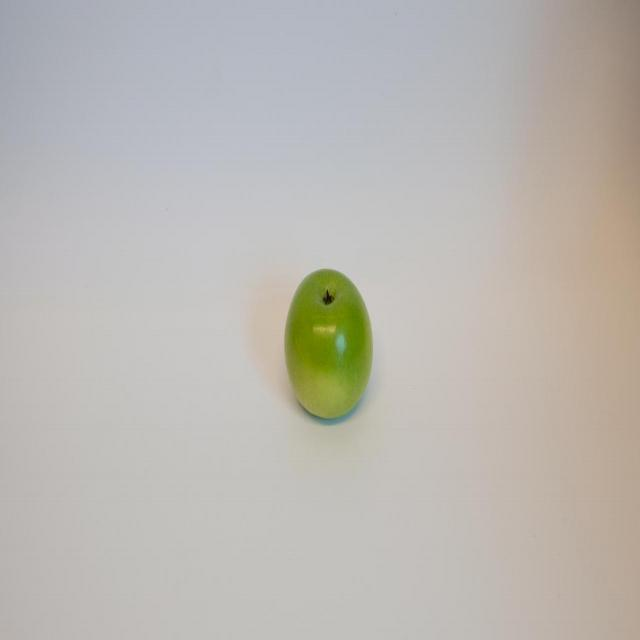apple: (282, 266, 374, 426)
